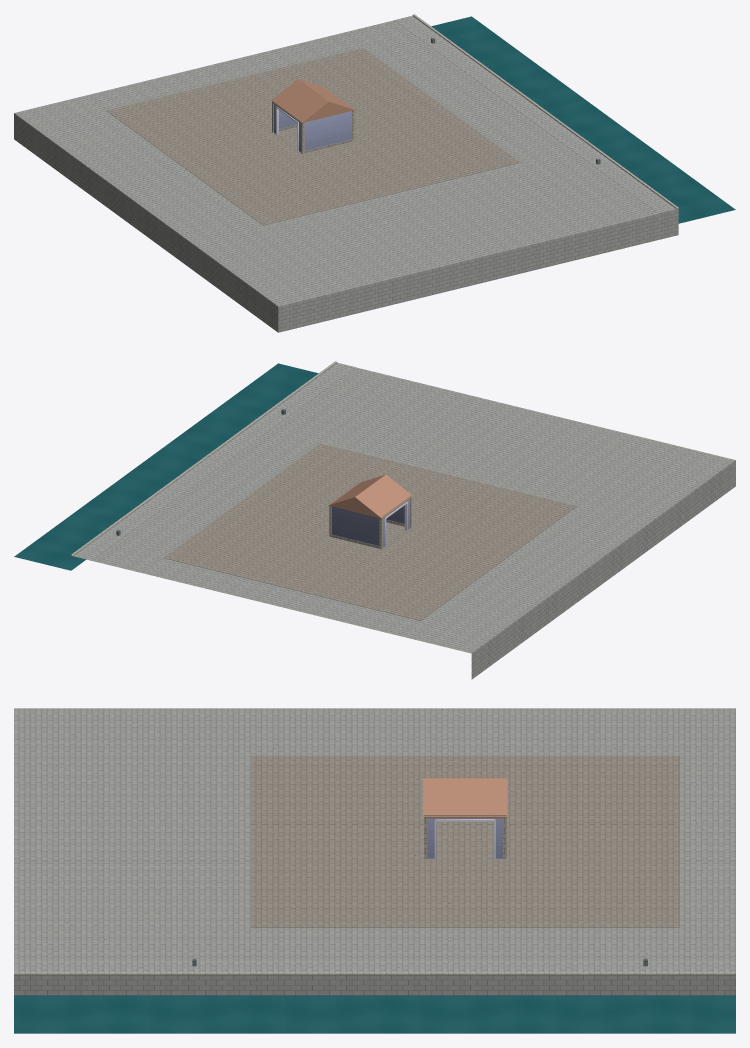
The model's file is canal-0-2.glb.
The picture shows the model from 3 angles, top to bottom: view 1: azimuth 30°, elevation 25°; view 2: azimuth 150°, elevation 25°; view 3: azimuth 270°, elevation 25°; orthographic projection. The views are drawn at different scales.
Visible parts, largest first — view 1: canal-0-2; view 2: canal-0-2; view 3: canal-0-2.
Part boxes in pixels (x1,y1,x2,y2): canal-0-2: (14,14,735,332); canal-0-2: (14,361,735,679); canal-0-2: (14,708,735,1033).
Bounding box in the file's own units: 128 × 19.4 × 128.
16 materials, 16 textured.
